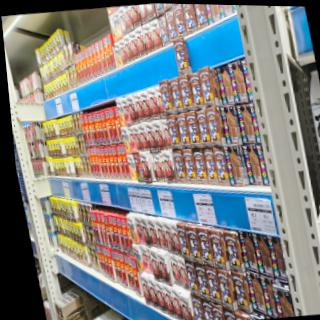Juice: (125, 211, 140, 245), (131, 243, 145, 273), (133, 214, 146, 244), (120, 126, 133, 156), (139, 244, 152, 273), (126, 153, 137, 181), (115, 99, 126, 127), (126, 124, 136, 153), (121, 98, 131, 126)
beverage: (108, 108, 122, 145), (103, 107, 116, 145), (98, 108, 111, 146), (103, 145, 117, 180), (131, 150, 145, 183), (96, 145, 109, 179), (114, 143, 126, 179), (110, 144, 122, 180), (95, 110, 106, 146), (119, 144, 130, 180)
